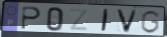0: (46, 6, 66, 32)
G: (139, 10, 162, 35)
I: (100, 8, 110, 33)
P: (20, 6, 43, 31)
V: (116, 8, 140, 34)
Z: (68, 8, 90, 32)
